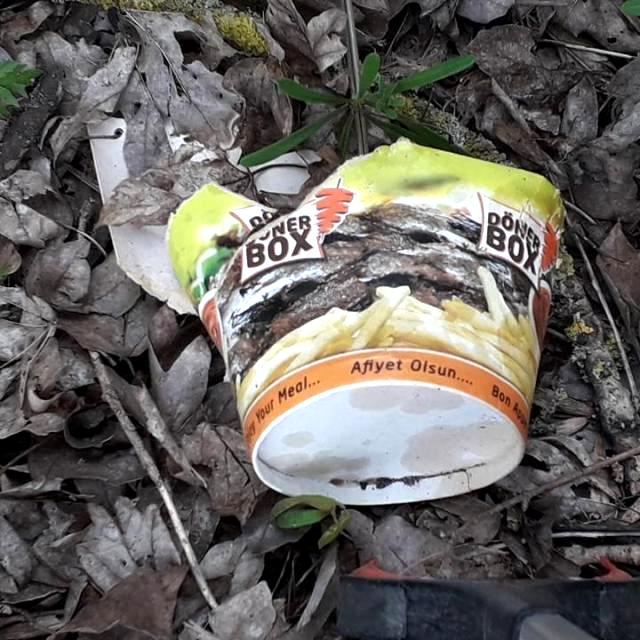Paper: (160, 134, 564, 510)
